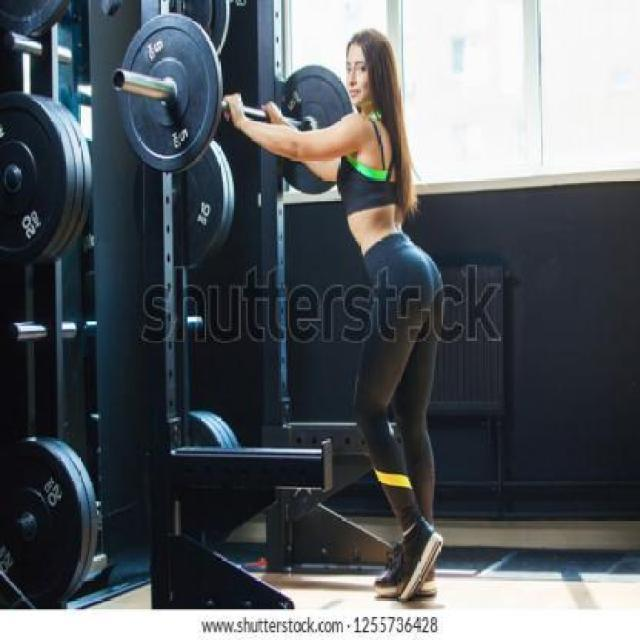barbell: (112, 11, 233, 168)
